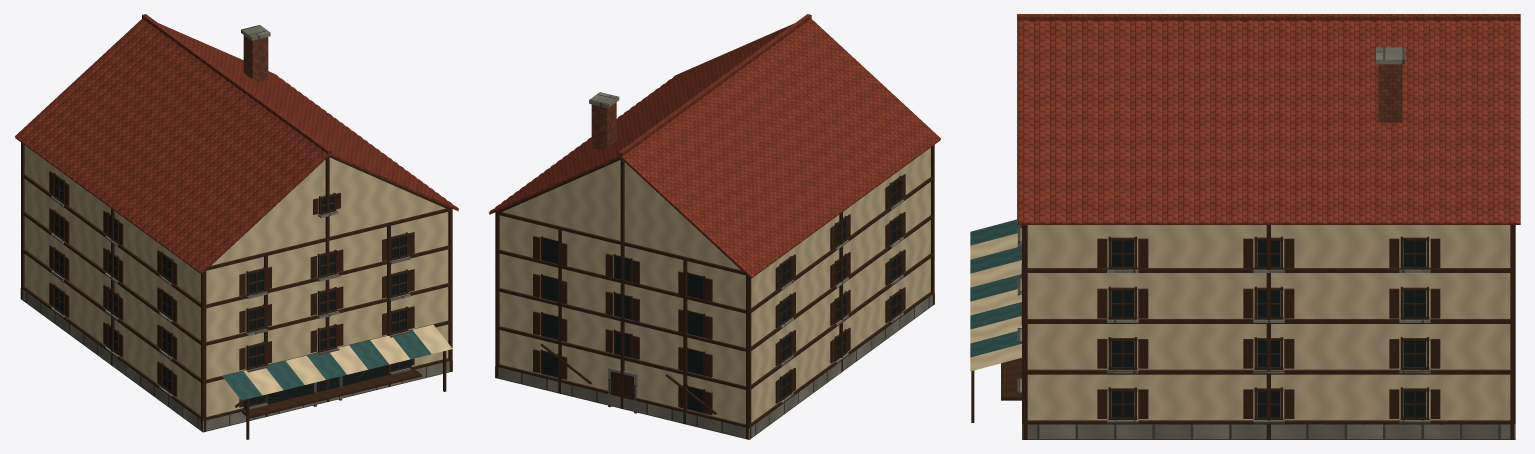
Rendered from SG_Warehouse_LOD0.fbx.
3 views of the same model, side by side, from view 1: azimuth 30°, elevation 25°; view 2: azimuth 150°, elevation 25°; view 3: azimuth 270°, elevation 25° (orthographic). The views are drawn at different scales.
Visible parts, largest first — view 1: SG_Warehouse_Detail0; view 2: SG_Warehouse_Detail0; view 3: SG_Warehouse_Detail0.
Boxes of the visible parts, x1,y1,x2,y2 form: SG_Warehouse_Detail0: [14, 14, 458, 439]; SG_Warehouse_Detail0: [489, 14, 940, 439]; SG_Warehouse_Detail0: [970, 14, 1520, 439].
Bounding box in the file's own units: 31.64 × 29.95 × 42.95.
